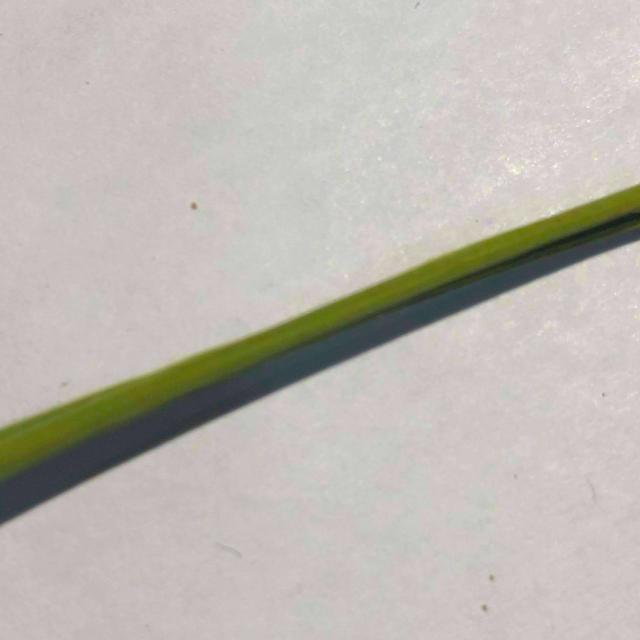Rice_Healthy: (0, 184, 640, 481)
